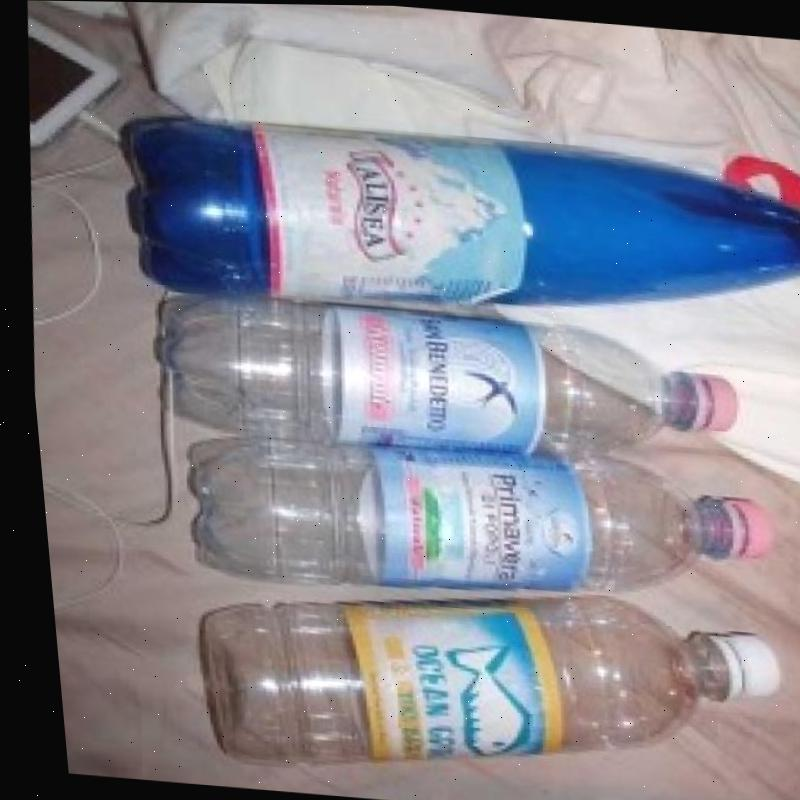botella: (102, 103, 800, 341), (177, 560, 780, 800), (169, 421, 772, 622), (137, 281, 738, 469)
